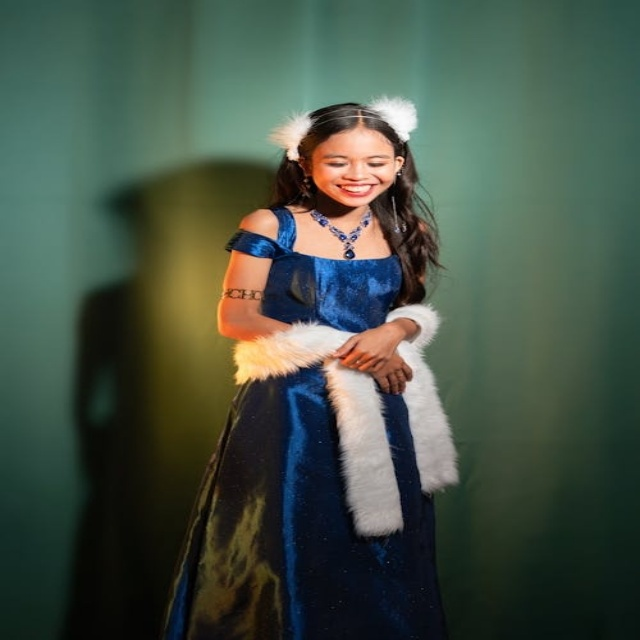Sin_gafas: (321, 149, 392, 170)
Sin_guantes: (330, 323, 404, 373), (371, 349, 415, 393)
Sin_mascara: (336, 185, 376, 197)
